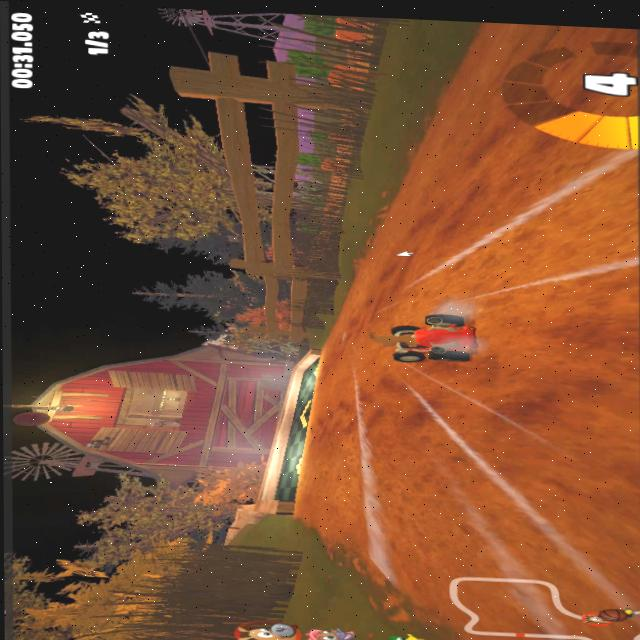player_kart: (378, 308, 485, 372)
power_up: (289, 400, 312, 430)
track: (470, 23, 640, 640), (365, 368, 478, 583), (397, 138, 477, 311), (322, 324, 368, 522), (360, 227, 404, 304), (290, 442, 325, 516), (328, 297, 378, 328)
